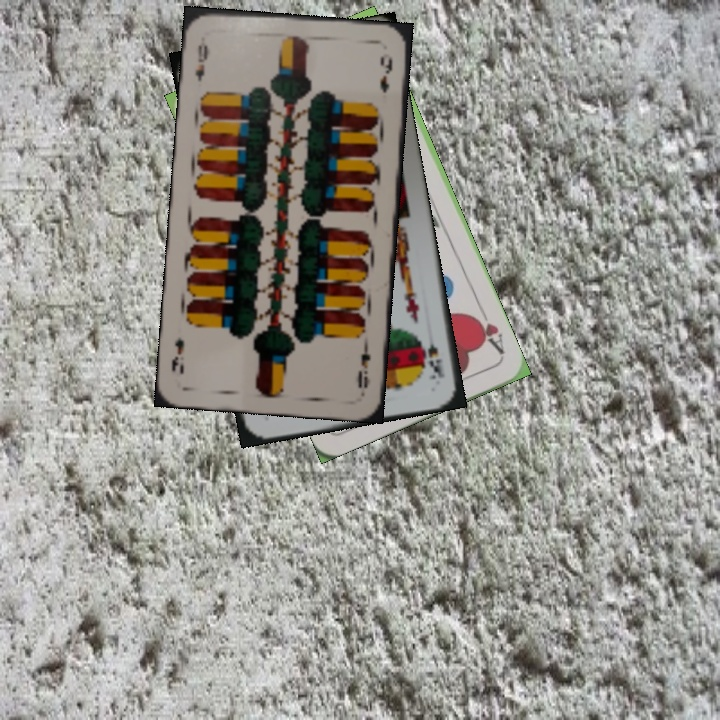E9: (353, 336, 374, 391), (191, 33, 211, 84)
HA: (468, 302, 508, 357)
SK: (420, 326, 447, 382)
